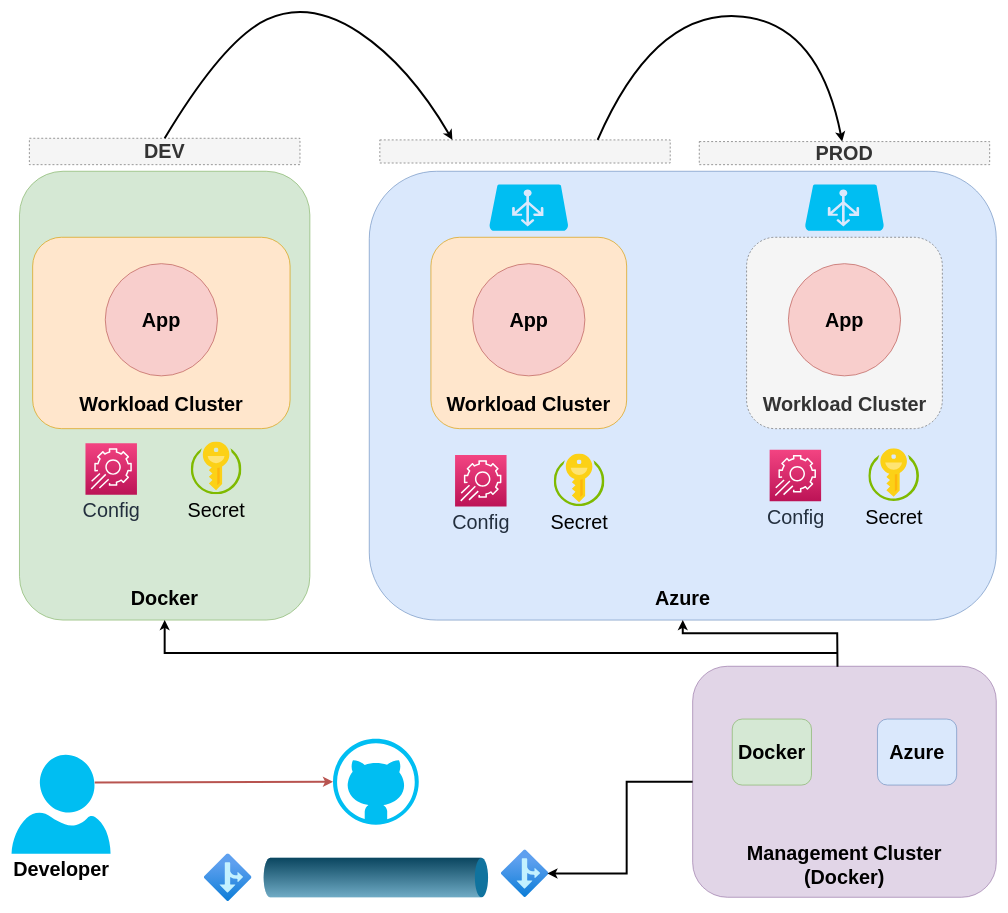
Some shapes in this 1008 by 913 pixel diagram are drawn without their labels. Each missing label, with the centre of its shape:
"GitHub" goes at point (375, 781).
"TEST" goes at point (524, 151).
